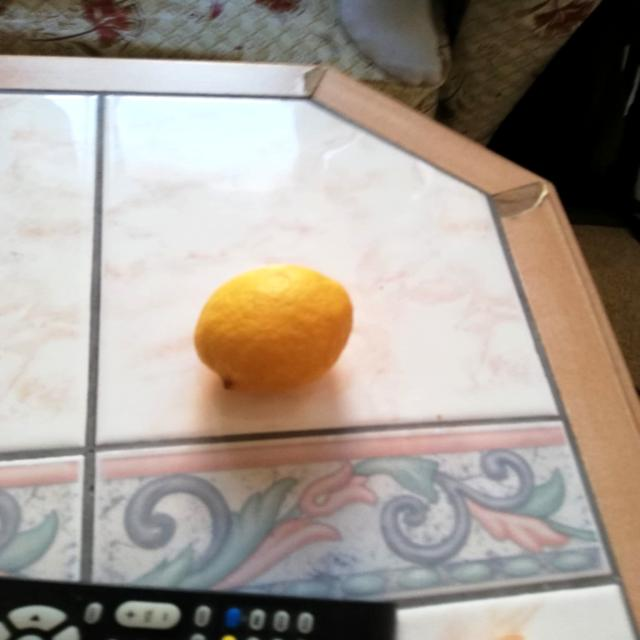lemon: (180, 259, 367, 400)
